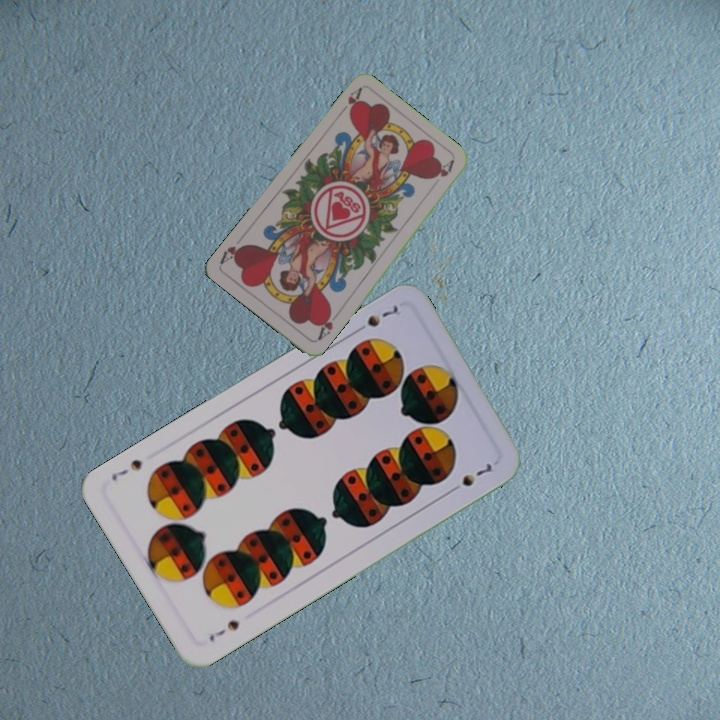HA: (313, 306, 342, 343), (334, 84, 364, 119)
S7: (350, 301, 403, 336), (205, 616, 242, 644)
